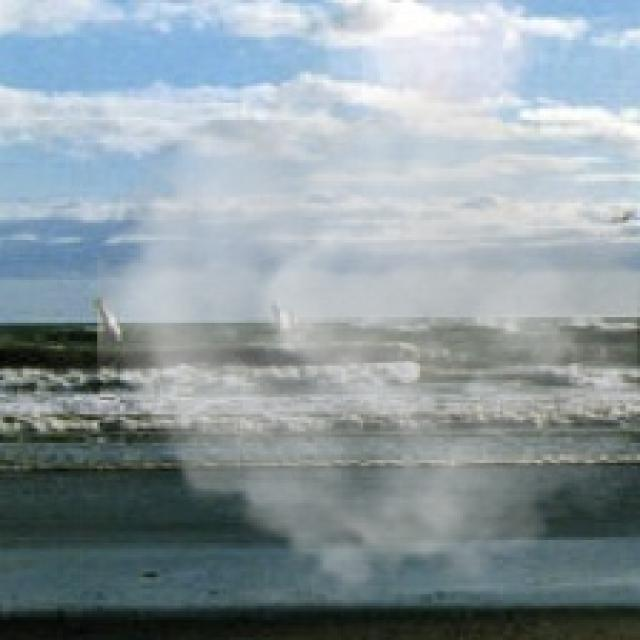Smoke: (97, 55, 637, 614)
